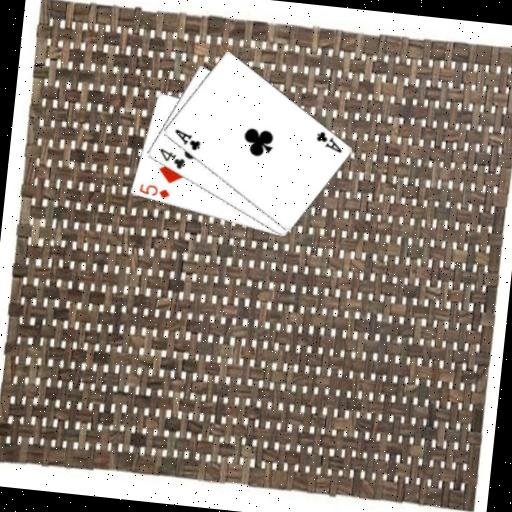4C: (155, 145, 188, 172)
5D: (136, 181, 173, 201)
AC: (311, 128, 345, 155), (170, 126, 203, 153)
